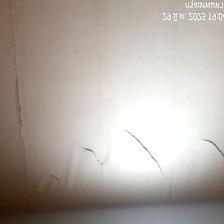Medium: (10, 81, 44, 185)
